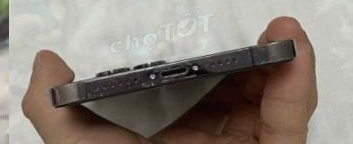scratch: (229, 36, 298, 76), (136, 62, 205, 92), (67, 71, 123, 104)
